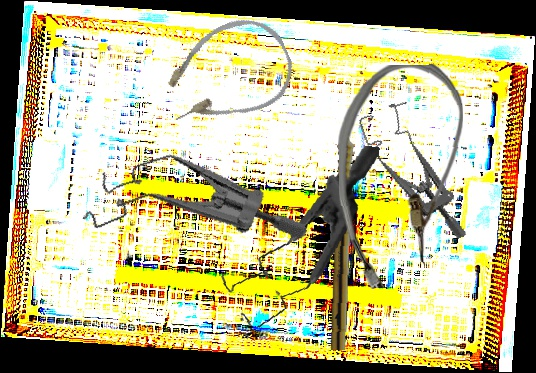Cannula: (337, 63, 466, 290), (148, 5, 305, 143)
Handpiece: (329, 112, 360, 351)
Speculum: (70, 117, 309, 300), (215, 128, 380, 341), (356, 95, 469, 257)
